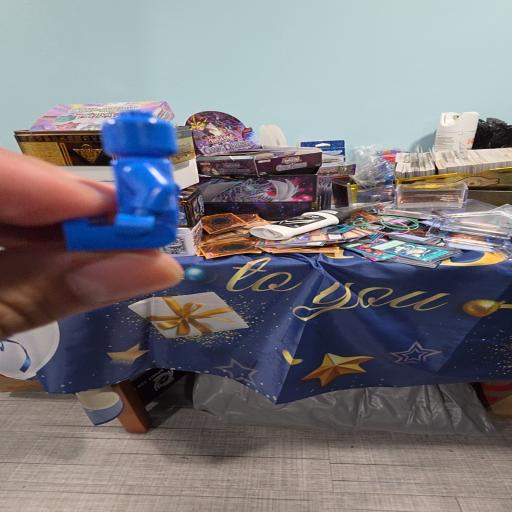Blue: (63, 110, 180, 250)
